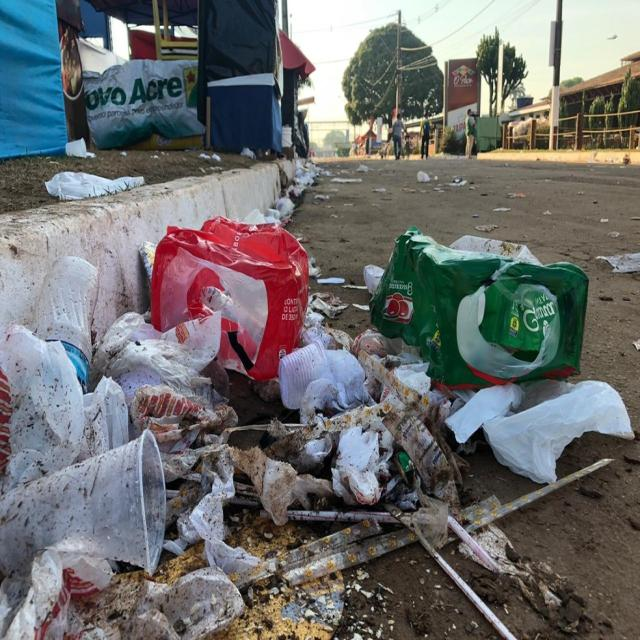garbage: (0, 184, 640, 639)
